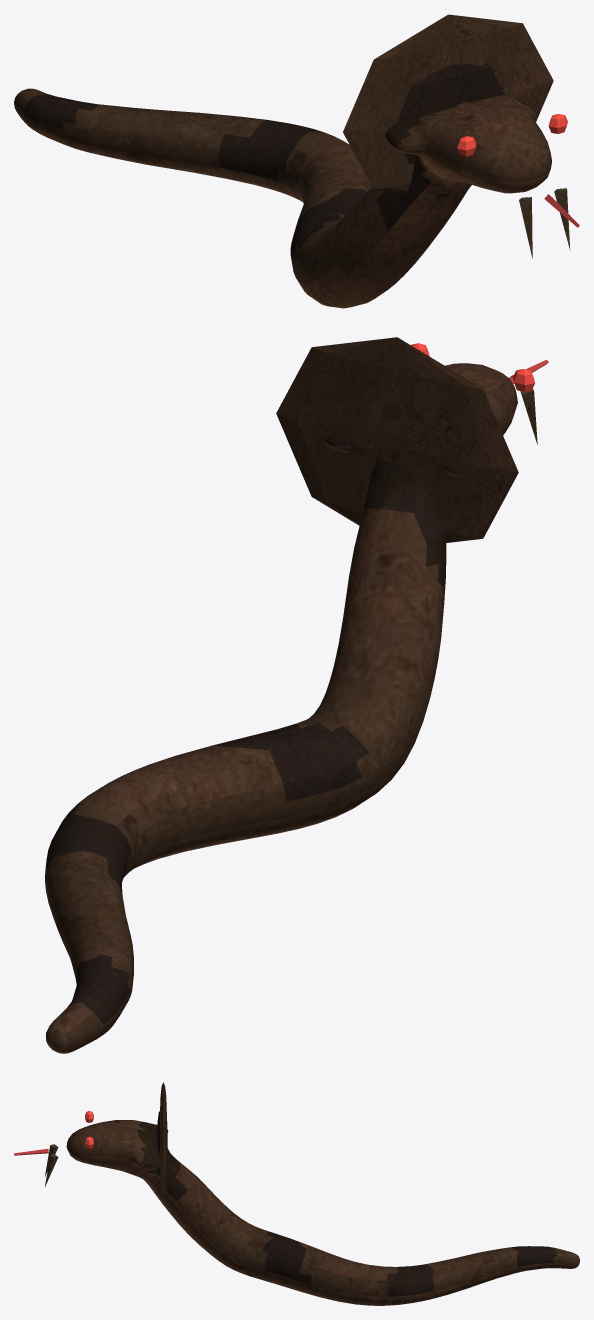
Rendered from mon_serp_02.glb.
The picture shows the model from 3 angles, top to bottom: view 1: azimuth 30°, elevation 25°; view 2: azimuth 150°, elevation 25°; view 3: azimuth 270°, elevation 25°; orthographic projection. The views are drawn at different scales.
Parts seen in each view (by area): view 1: mon_serp_02; view 2: mon_serp_02; view 3: mon_serp_02.
Part boxes in pixels (box(x1,y1,x2,y2)): mon_serp_02: box(14, 14, 579, 308); mon_serp_02: box(45, 337, 548, 1053); mon_serp_02: box(14, 1082, 579, 1305).
Bounding box in the file's own units: 0.3904 × 0.6119 × 1.58.
6 materials, 6 textured.
